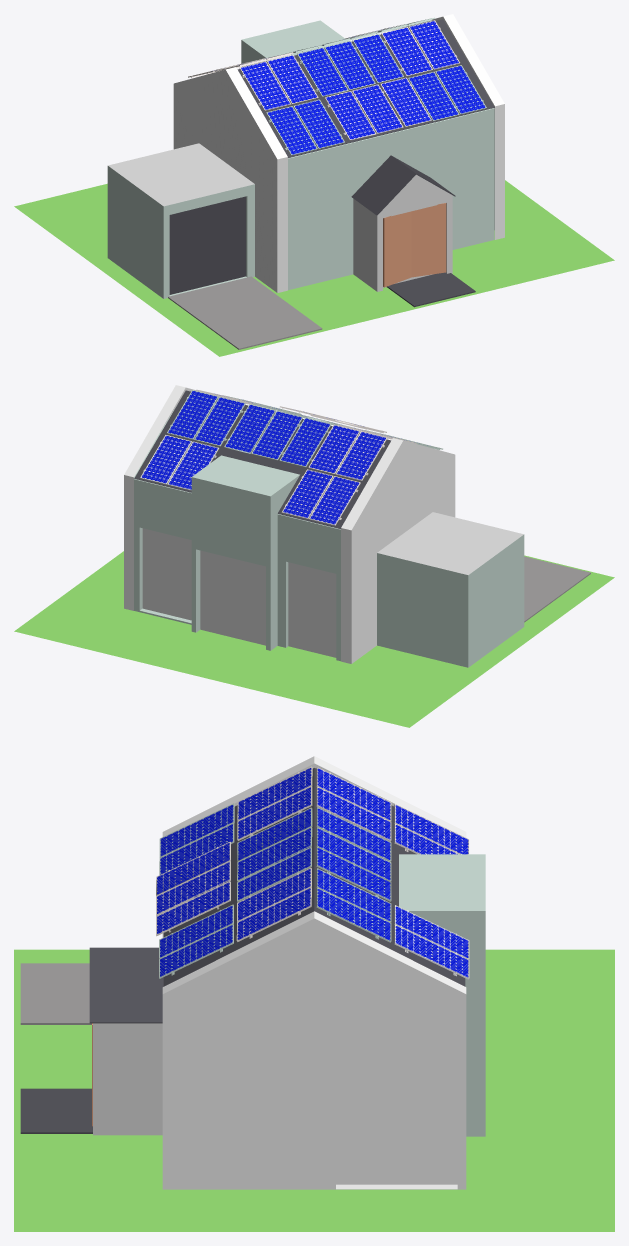
File: solarhouse.fbx
3 renders of one model, top to bottom at view 1: azimuth 30°, elevation 25°; view 2: azimuth 150°, elevation 25°; view 3: azimuth 270°, elevation 25°, orthographic. The views are drawn at different scales.
Parts seen in each view (by area): view 1: Plane.001, Cube_Cube.001, Cube.001_Cube.002, Cube.007_Cube.008, Cube.008_Cube.009, Plane.002_Plane.004, Cube.009_Cube.010, Cube.005_Cube.006, Cube.011_Cube.012, 10781_Solar-Panels_V1.015_10781_Solar-Panels_V1.020, 10781_Solar-Panels_V1.014_10781_Solar-Panels_V1.019, Cube.002_Cube.003 (+7 smaller); view 2: Plane.001, Cube.001_Cube.002, Cube.007_Cube.008, Cube.003_Cube.004, Cube_Cube.001, Cube.004_Cube.005, Cube.010_Cube.011, Cube.009_Cube.010, 10781_Solar-Panels_V1.009, Cube.002_Cube.003, 10781_Solar-Panels_V1.008, 10781_Solar-Panels_V1.006 (+3 smaller); view 3: Cube.001_Cube.002, Plane.001, Cube.003_Cube.004, Cube.005_Cube.006, Cube.006_Cube.007, Cube.002_Cube.003, 10781_Solar-Panels_V1.009, 10781_Solar-Panels_V1.014_10781_Solar-Panels_V1.019, 10781_Solar-Panels_V1.015_10781_Solar-Panels_V1.020, Plane.002_Plane.004, Plane_Plane.003, 10781_Solar-Panels_V1.006 (+7 smaller).
Part boxes in pixels (x1,y1,x2,y2): Plane.001: (14, 180, 614, 356); Cube_Cube.001: (288, 108, 494, 290); Cube.001_Cube.002: (173, 14, 504, 292); Cube.007_Cube.008: (107, 166, 254, 298); Cube.008_Cube.009: (169, 196, 245, 294); Plane.002_Plane.004: (168, 276, 322, 349); Cube.009_Cube.010: (108, 143, 254, 206); Cube.005_Cube.006: (353, 174, 452, 291); Cube.011_Cube.012: (383, 203, 446, 287); 10781_Solar-Panels_V1.015_10781_Solar-Panels_V1.020: (325, 77, 431, 140); 10781_Solar-Panels_V1.014_10781_Solar-Panels_V1.019: (297, 34, 403, 97); Cube.002_Cube.003: (237, 19, 494, 157); Plane.001: (14, 551, 614, 727); Cube.001_Cube.002: (124, 385, 455, 663); Cube.007_Cube.008: (377, 534, 524, 667); Cube.003_Cube.004: (191, 455, 299, 650); Cube_Cube.001: (134, 406, 340, 661); Cube.004_Cube.005: (142, 528, 336, 657); Cube.010_Cube.011: (200, 550, 265, 645); Cube.009_Cube.010: (377, 512, 523, 574); 10781_Solar-Panels_V1.009: (224, 404, 331, 467); Cube.002_Cube.003: (134, 390, 391, 528); 10781_Solar-Panels_V1.008: (308, 424, 387, 480); 10781_Solar-Panels_V1.006: (167, 390, 245, 446); Cube.001_Cube.002: (162, 756, 466, 1189); Plane.001: (14, 949, 614, 1231); Cube.003_Cube.004: (399, 854, 485, 1136); Cube.005_Cube.006: (93, 1023, 162, 1135); Cube.006_Cube.007: (89, 947, 163, 1023); Cube.002_Cube.003: (163, 768, 465, 986); 10781_Solar-Panels_V1.009: (316, 807, 391, 901); 10781_Solar-Panels_V1.014_10781_Solar-Panels_V1.019: (237, 807, 312, 901); 10781_Solar-Panels_V1.015_10781_Solar-Panels_V1.020: (156, 841, 230, 936); Plane.002_Plane.004: (20, 963, 91, 1024); Plane_Plane.003: (20, 1088, 92, 1133); 10781_Solar-Panels_V1.006: (316, 868, 391, 942).
Size of the model in its own units: 442 by 208 by 398.
